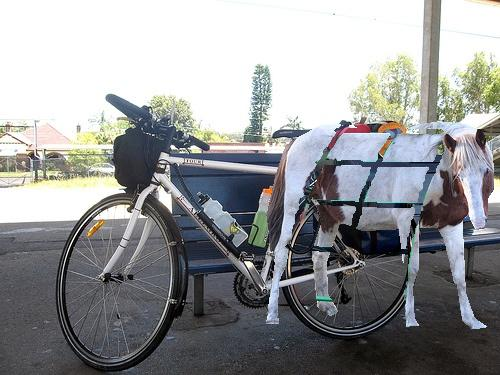tampered: (267, 122, 494, 329)
